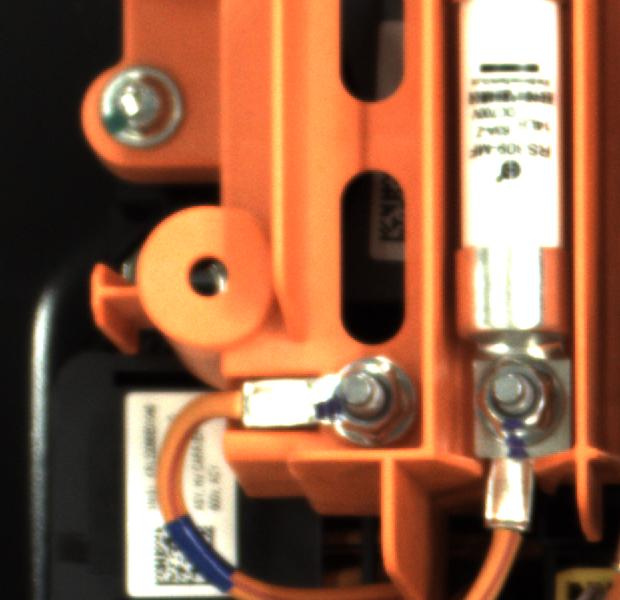screw_m: (92, 66, 204, 152)
screw_s: (463, 347, 574, 447), (324, 356, 423, 454)
